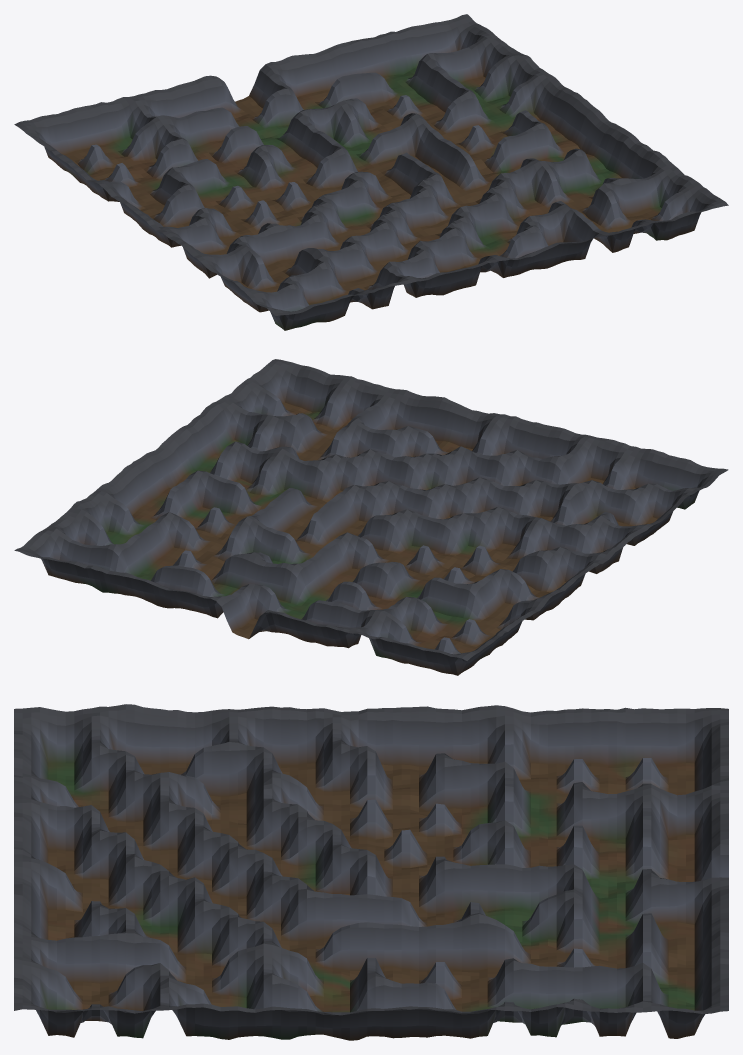
Rendered from Map_21x21.fbx.
3 views of the same model, one above another, from view 1: azimuth 30°, elevation 25°; view 2: azimuth 150°, elevation 25°; view 3: azimuth 270°, elevation 25° (orthographic). The views are drawn at different scales.
Visible parts, largest first — view 1: Plane; view 2: Plane; view 3: Plane.
Boxes of the visible parts, x1,y1,x2,y2 form: Plane: (14,14,728,330); Plane: (14,359,728,675); Plane: (14,704,728,1040).
Bounding box in the file's own units: 100 × 7.72 × 100.
